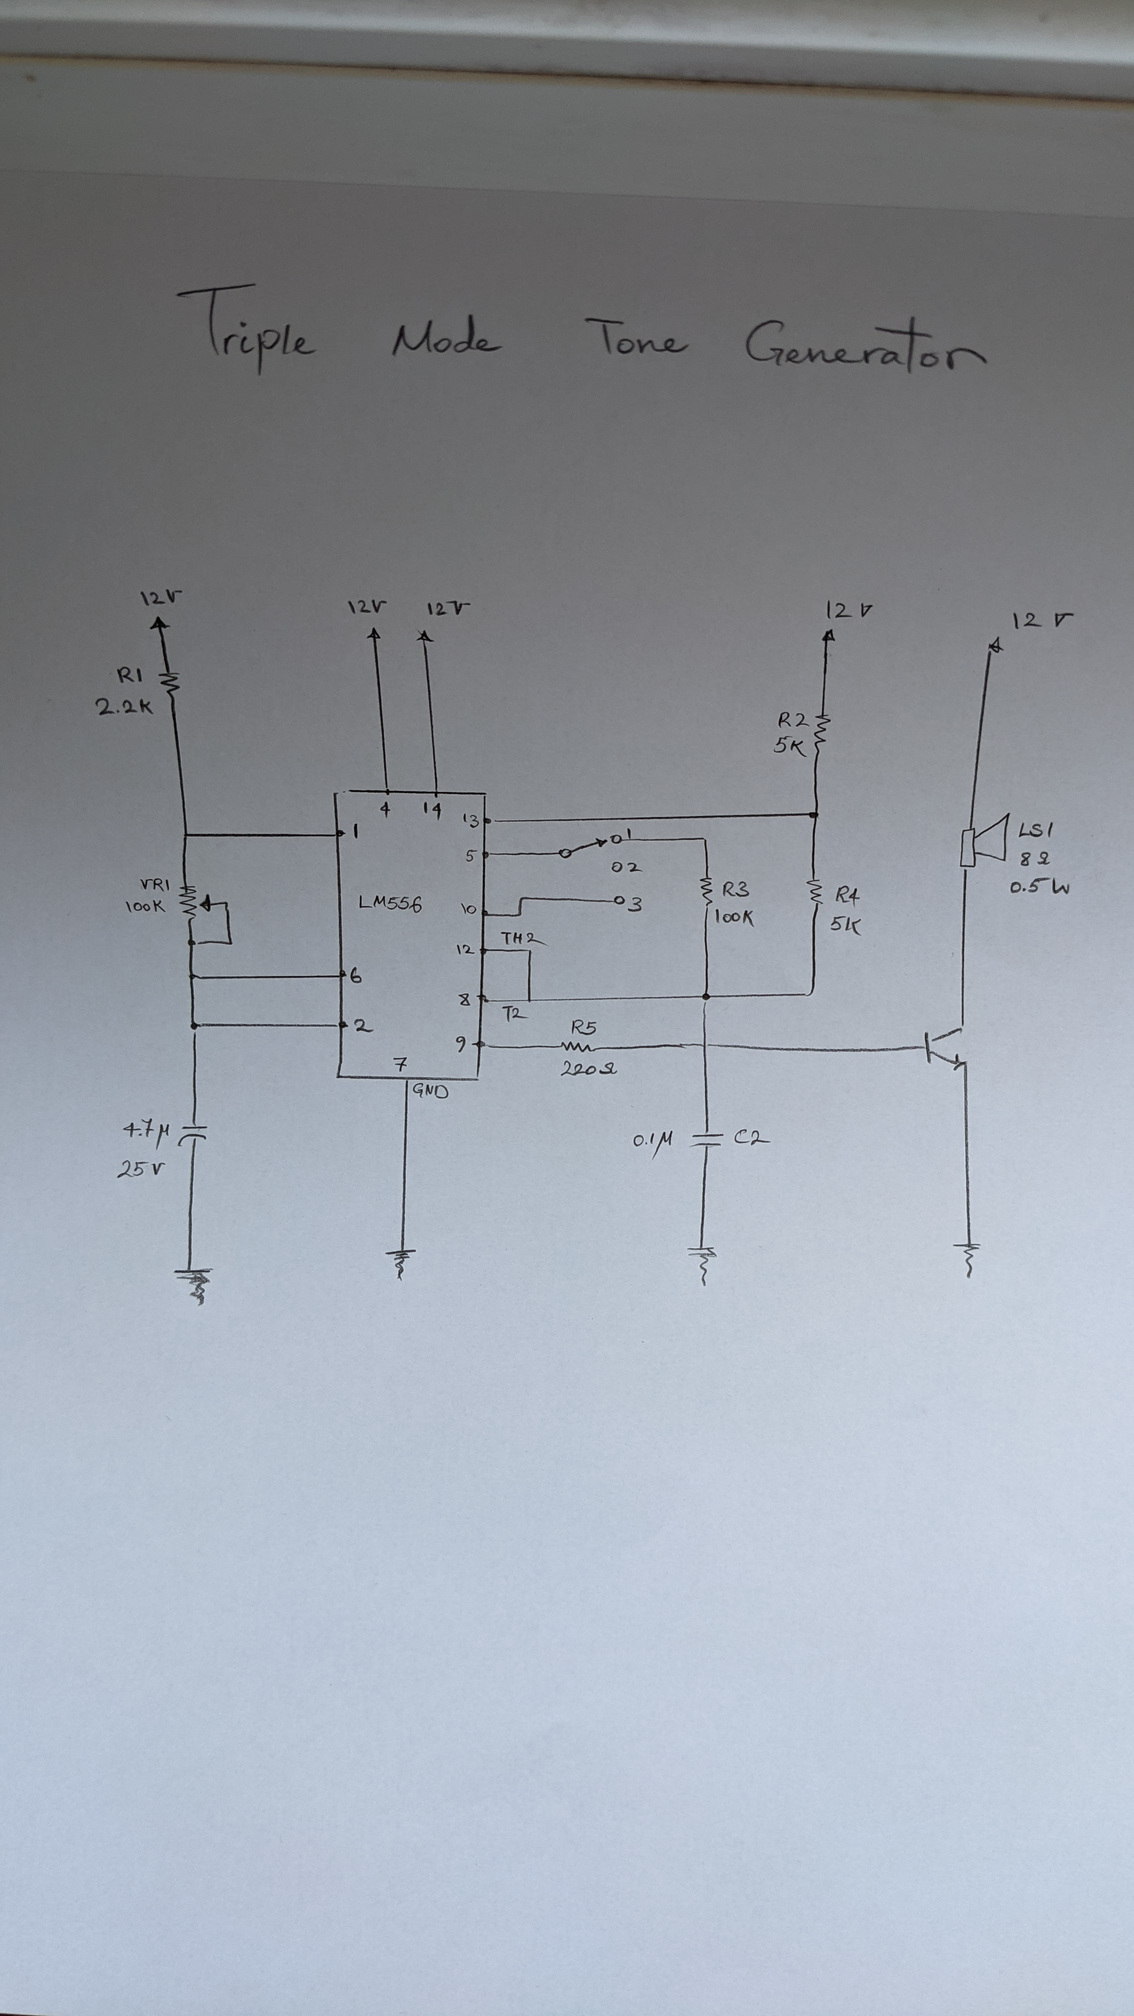capacitor.unpolarized: (174, 1120, 210, 1149), (687, 1128, 726, 1153)
crossover: (698, 1038, 712, 1051)
gnd: (172, 1264, 216, 1308), (685, 1243, 720, 1289), (950, 1241, 984, 1279), (384, 1248, 420, 1284)
integrated_circuit: (330, 786, 496, 1081)
junction: (187, 1020, 204, 1034), (186, 936, 202, 948), (186, 971, 202, 982), (806, 809, 822, 820), (699, 991, 714, 1002), (803, 989, 818, 1000), (224, 937, 237, 948), (180, 829, 191, 840), (699, 834, 710, 845), (222, 899, 234, 908), (514, 910, 523, 919), (516, 894, 526, 903), (525, 996, 534, 1004), (526, 946, 534, 954)
resistor: (811, 712, 834, 755), (156, 669, 181, 701), (804, 876, 827, 908), (557, 1040, 600, 1055), (698, 874, 716, 908)
resistor.adjustable: (176, 883, 213, 924)
speaker: (957, 810, 1012, 872)
switch: (557, 832, 623, 875)
terminal: (611, 893, 626, 908)
text: (173, 276, 994, 386), (120, 1116, 172, 1152), (93, 694, 159, 720), (357, 892, 425, 915), (1011, 608, 1076, 631), (631, 1128, 677, 1162), (1009, 874, 1073, 897), (558, 1058, 620, 1079), (115, 1158, 168, 1181), (825, 597, 875, 620), (424, 597, 475, 619), (712, 906, 756, 930), (137, 586, 184, 608), (773, 734, 809, 762), (829, 912, 867, 939), (498, 929, 548, 948), (345, 595, 390, 616), (732, 1126, 773, 1149), (1016, 820, 1058, 840), (1016, 846, 1054, 868), (775, 709, 811, 730), (125, 899, 169, 915), (834, 883, 863, 908), (720, 878, 752, 900), (413, 1081, 451, 1099), (498, 1002, 532, 1023), (115, 665, 145, 687), (569, 1016, 600, 1038), (420, 798, 444, 822), (138, 875, 172, 893), (352, 1016, 375, 1036), (460, 811, 480, 831), (390, 1054, 410, 1073), (626, 894, 645, 914), (458, 899, 478, 917), (349, 965, 366, 986), (349, 820, 366, 840), (456, 942, 476, 957), (457, 990, 472, 1009), (462, 847, 478, 867), (378, 800, 393, 820), (624, 858, 642, 874), (456, 1034, 469, 1054), (624, 825, 636, 840)
transistor: (922, 1020, 972, 1073)
vss: (984, 634, 1005, 656), (148, 613, 172, 633), (364, 624, 384, 642), (413, 629, 435, 644), (820, 626, 838, 644)
